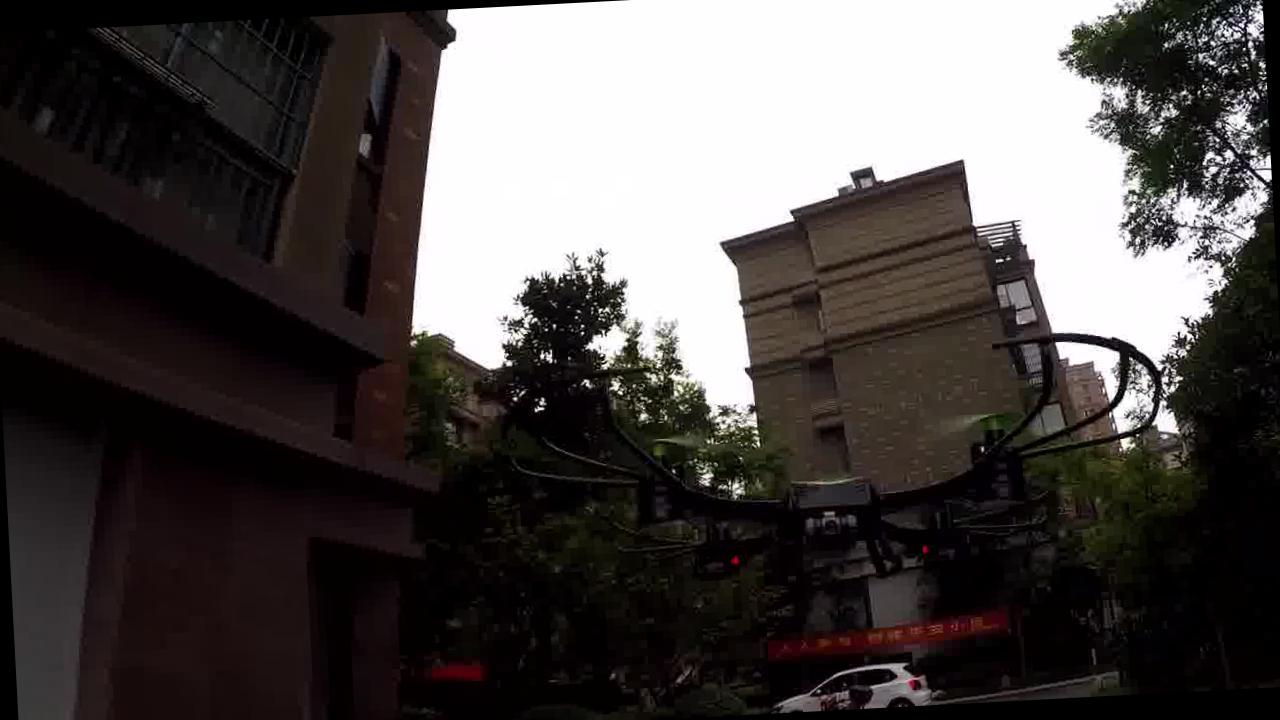drone: (443, 308, 1181, 621)
